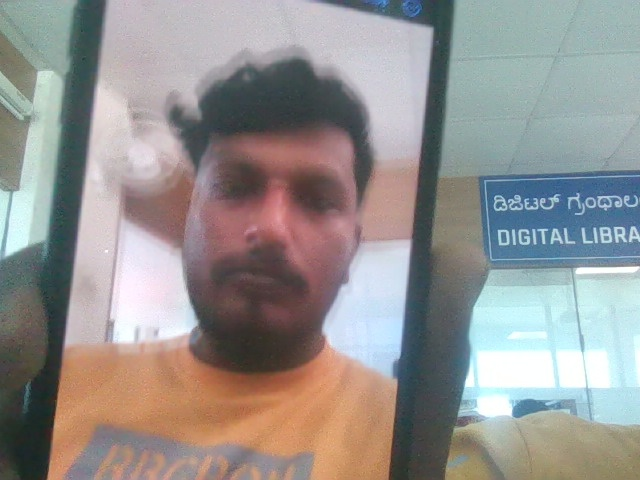fake: (151, 32, 388, 368)
